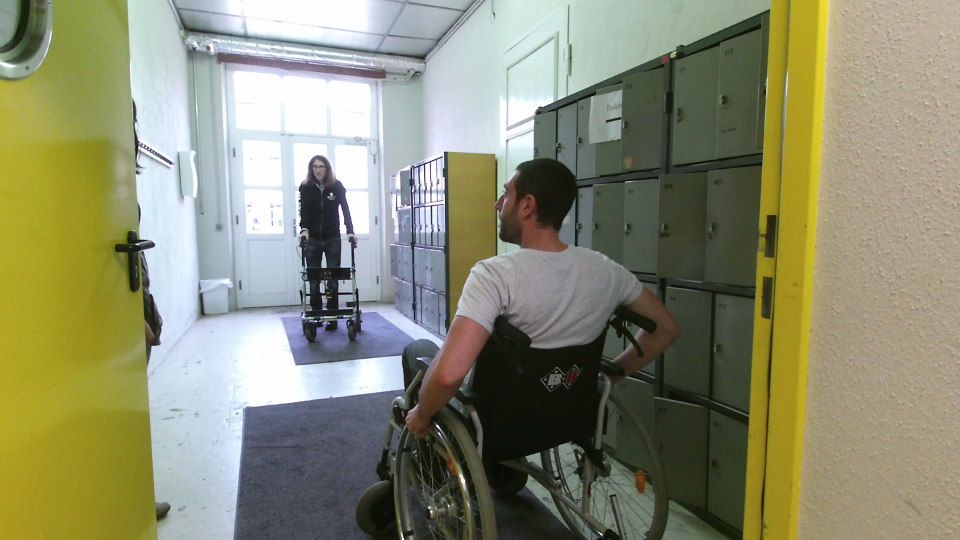wheelchair: (353, 154, 674, 540)
